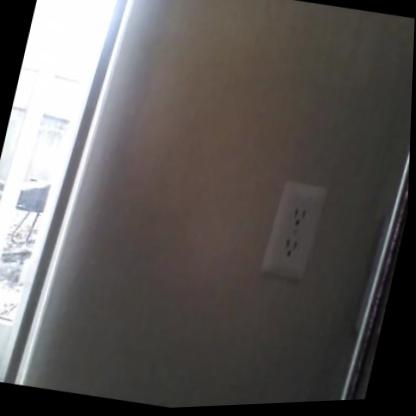OUTLET: (260, 179, 327, 280)
